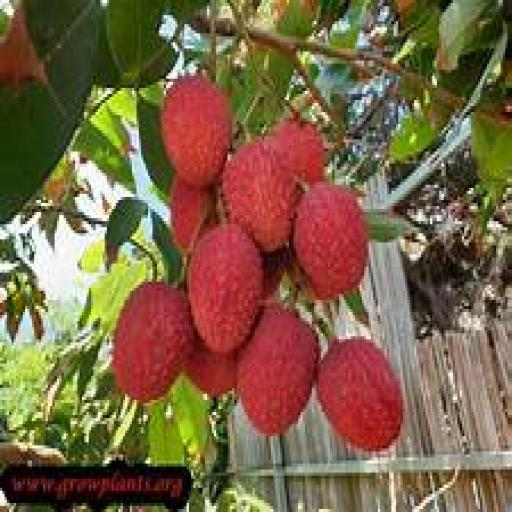lychee: (237, 303, 318, 436), (112, 282, 193, 402), (317, 340, 402, 451), (187, 225, 261, 351), (294, 182, 368, 299), (224, 140, 295, 251), (162, 76, 232, 187), (267, 119, 325, 184), (0, 7, 45, 84), (169, 179, 213, 254), (185, 340, 236, 396), (262, 249, 291, 299)
